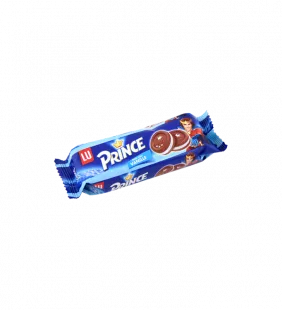PRINCE: (45, 101, 235, 204)
